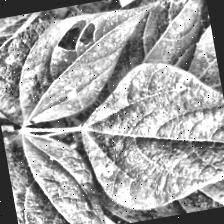Bean Rust: (71, 52, 224, 215), (0, 7, 135, 134), (82, 0, 219, 97), (2, 116, 117, 224), (180, 14, 224, 141)
